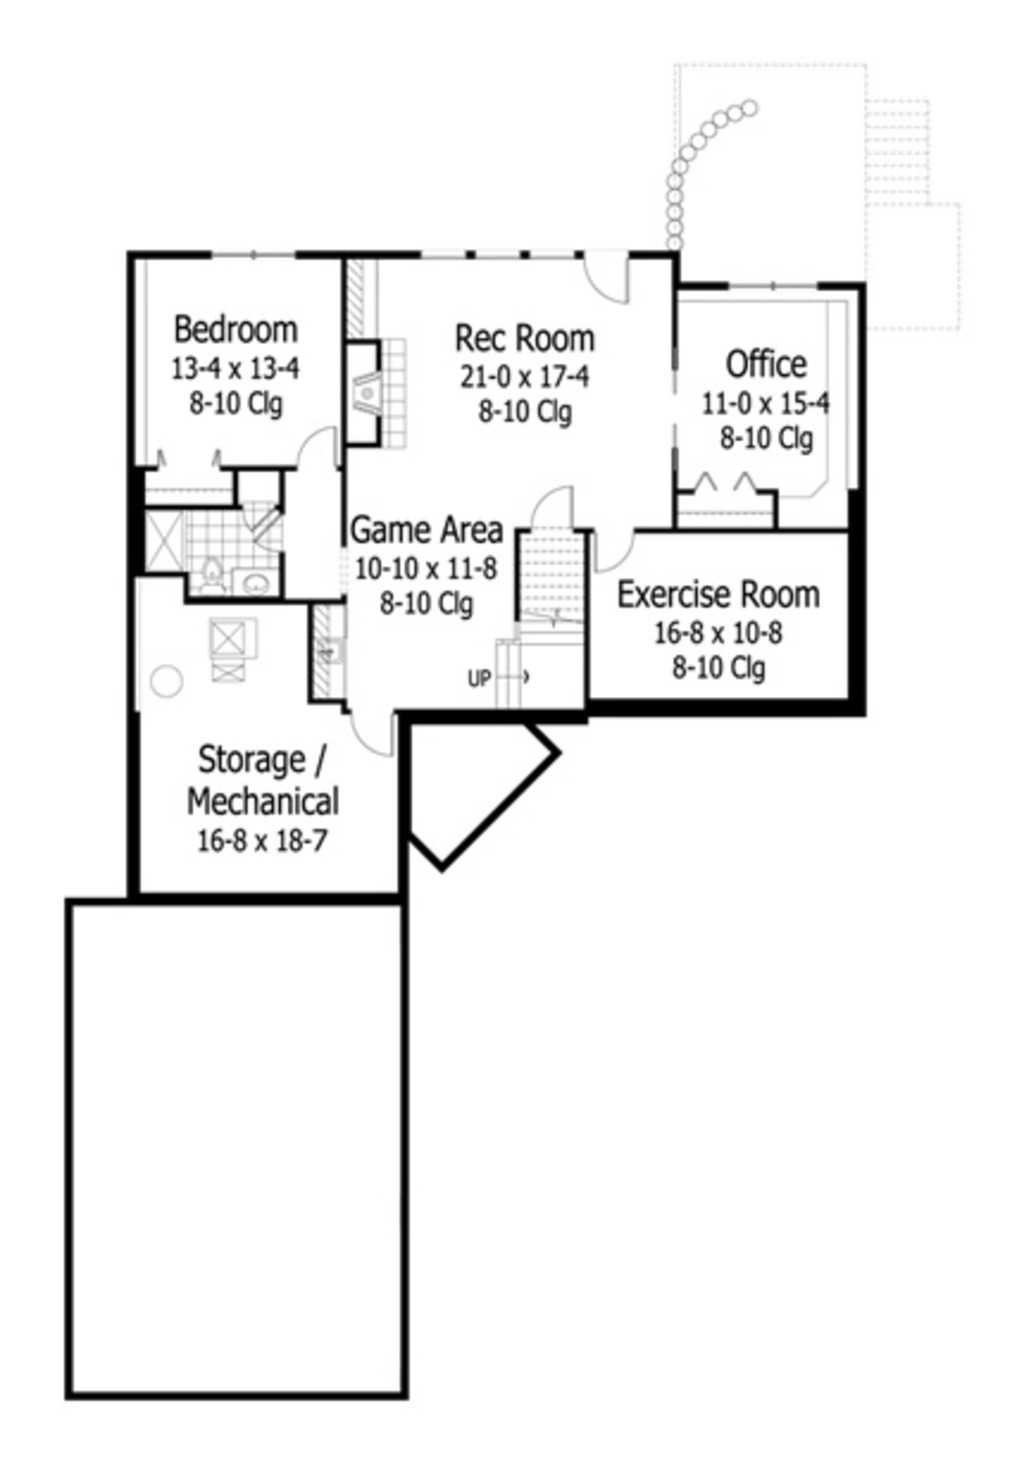door: (580, 244, 642, 311), (519, 474, 575, 535), (583, 514, 639, 576), (291, 417, 339, 480), (341, 708, 391, 761)
large_sink: (187, 552, 230, 610)
stairs: (861, 94, 937, 208)
windows: (414, 236, 583, 271), (717, 275, 823, 302), (198, 240, 308, 263)
